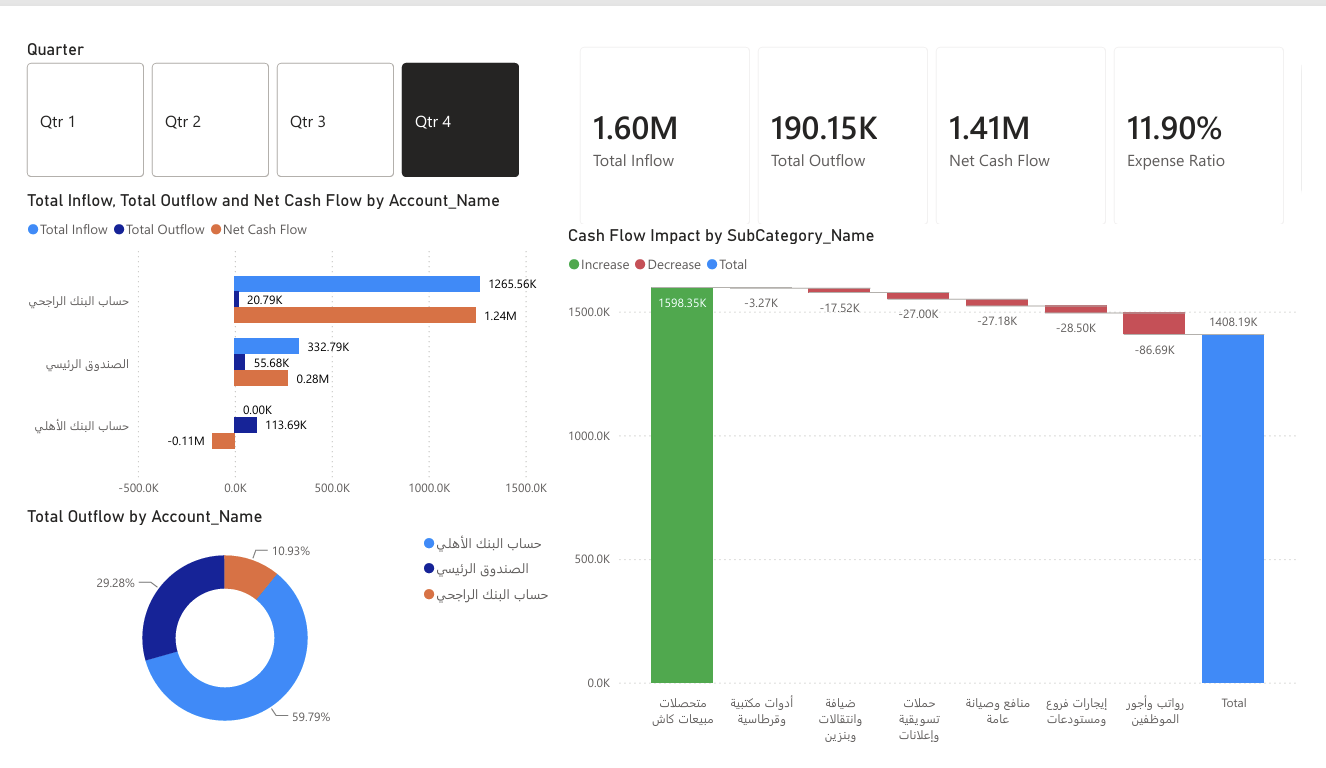

The page's visual inventory and layout, read from the dashboard file:
{"tool":"powerbi","page":{"name":"Page 1","canvas":[1280,720],"ordinal":0},"visuals":[{"type":"cardVisual","fields":{"Data":["_Measurs.Total Inflow","_Measurs.Total Outflow","_Measurs.Net Cash Flow","_Measurs.Expense Ratio"]},"box":[541.3,0,738.7,212.8],"z":0},{"type":"waterfallChart","fields":{"Category":["Dim_GL_Categories.SubCategory_Name"],"Y":["_Measurs.Cash Flow Impact"]},"box":[541.3,195.4,738.7,524.9],"z":1000},{"type":"donutChart","fields":{"Category":["Dim_Accounts.Account_Name"],"Y":["_Measurs.Total Outflow"]},"box":[0,475.6,540.8,245.1],"z":2000},{"type":"clusteredBarChart","fields":{"Category":["Dim_Accounts.Account_Name"],"Y":["_Measurs.Total Inflow","_Measurs.Total Outflow","_Measurs.Net Cash Flow"]},"box":[0,160.5,540.8,315.1],"z":3000},{"type":"advancedSlicerVisual","fields":{"Values":["Dim_Date.Date.Variation.Date Hierarchy.Quarter"]},"box":[0,8.8,508.7,144],"z":4000}]}

Visuals, with their boxes in screenshot pixels (x1, y1, x2, y2), scaled from the page's 1280x720 canvas onto the 1326x768 screenshot:
cardVisual - _Measurs.Total Inflow x _Measurs.Total Outflow: 561, 0, 1325, 227
waterfallChart - Dim_GL_Categories.SubCategory_Name x _Measurs.Cash Flow Impact: 561, 208, 1325, 767
donutChart - Dim_Accounts.Account_Name x _Measurs.Total Outflow: 0, 507, 560, 767
clusteredBarChart - Dim_Accounts.Account_Name x _Measurs.Total Inflow: 0, 171, 560, 507
advancedSlicerVisual - Dim_Date.Date.Variation.Date Hierarchy.Quarter: 0, 9, 527, 163
